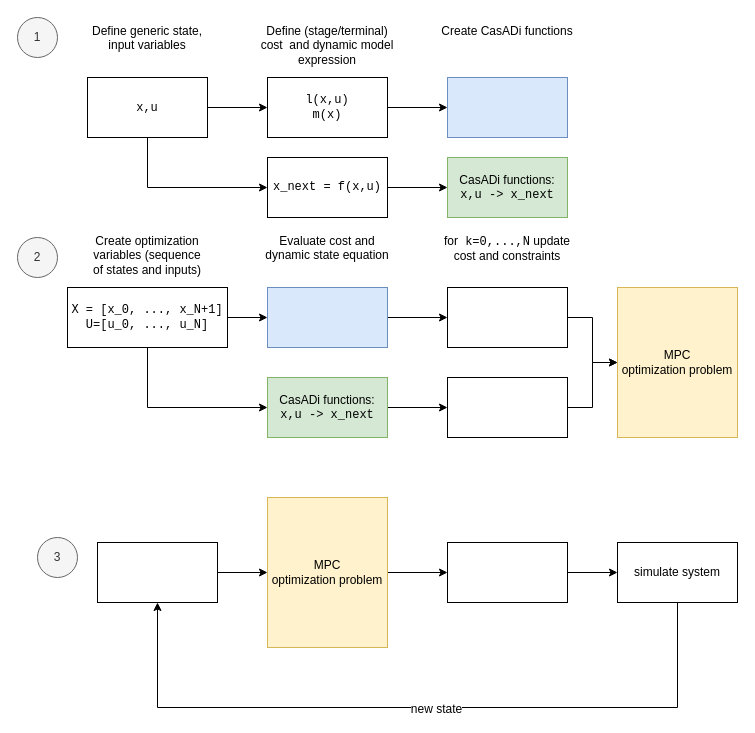
The diagram is 755 pixels wide and 733 high, and some of its shapes have lost their labels. Each missing label, with the box of its shape:
CasADi functions: x,u -> l(x,u) x -> J(x): (266, 286, 388, 348)
CasADi functions: x,u -> l(x,u) x -> m(x): (446, 76, 568, 138)
cost: (446, 286, 568, 348)
g_k = x_k+1-f(x_k,u_k): (446, 376, 568, 438)
new control input: (446, 542, 568, 602)
update initial state: (96, 542, 218, 602)
